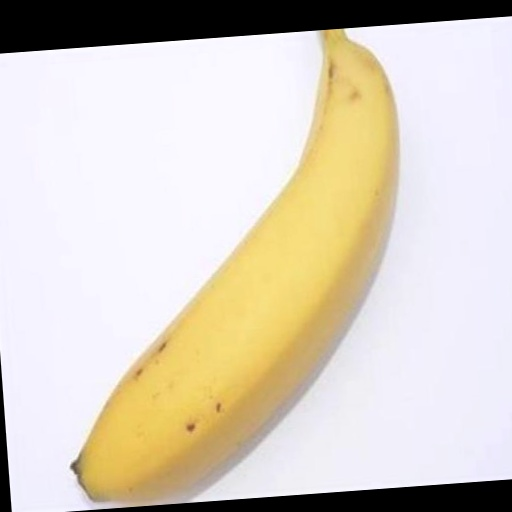fruit: (72, 29, 398, 500)
